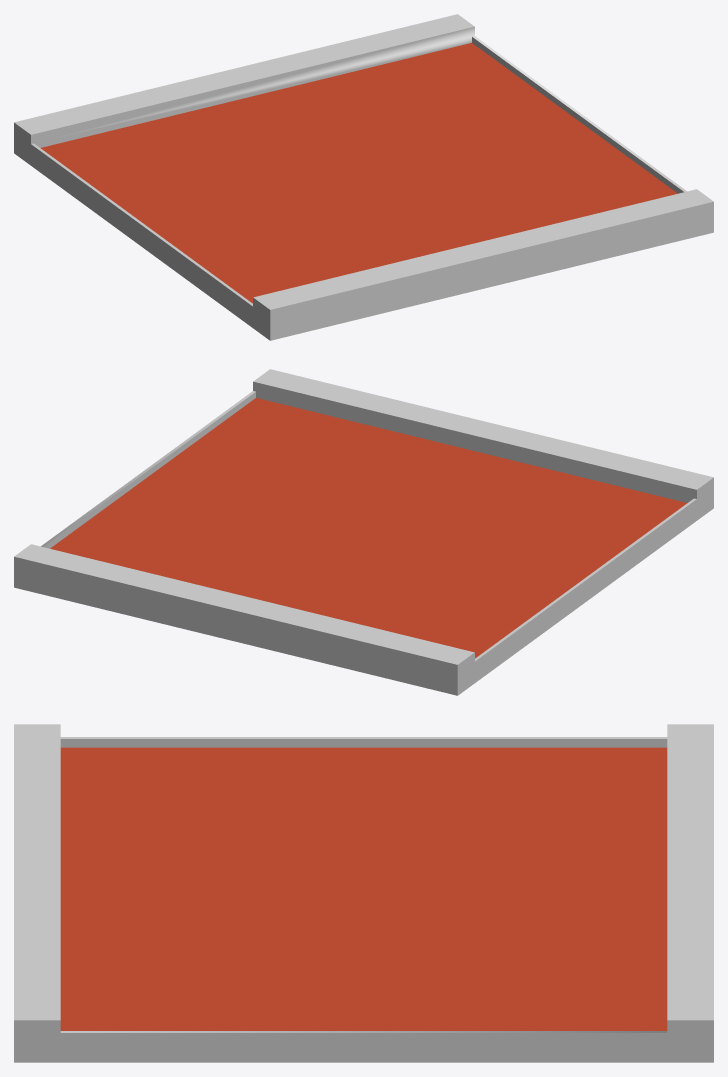
The model's file is CheckPointRoad.fbx.
3 renders of one model, top to bottom at view 1: azimuth 30°, elevation 25°; view 2: azimuth 150°, elevation 25°; view 3: azimuth 270°, elevation 25°, orthographic. The views are drawn at different scales.
Parts seen in each view (by area): view 1: load; view 2: load; view 3: load.
Boxes of the visible parts, bbox=[...] form: load: bbox=[14, 14, 713, 340]; load: bbox=[14, 369, 713, 695]; load: bbox=[14, 724, 713, 1062].
Bounding box in the file's own units: 7500 × 500 × 7500.
